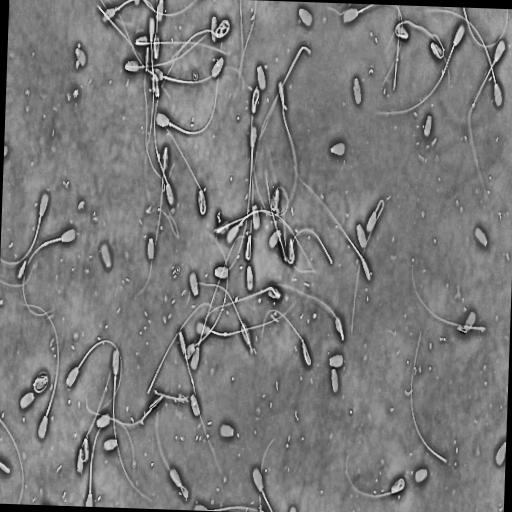coiled-tail: (79, 343, 119, 461), (170, 19, 229, 61), (345, 455, 404, 497), (270, 183, 289, 217), (251, 89, 259, 150), (271, 187, 288, 215), (33, 378, 46, 392), (253, 91, 258, 108), (81, 438, 85, 458)
distal-droplet: (177, 325, 214, 456), (194, 302, 296, 337), (42, 241, 47, 246), (191, 377, 194, 385), (223, 331, 227, 336)
folded-tail: (159, 114, 206, 214), (186, 282, 252, 351), (351, 200, 383, 332), (270, 283, 343, 340), (140, 147, 166, 293), (468, 60, 495, 190), (156, 390, 188, 498), (202, 286, 280, 329), (394, 20, 449, 79), (126, 32, 208, 68), (262, 309, 310, 364), (136, 41, 226, 54), (245, 166, 253, 260), (200, 191, 204, 211)
loose-head: (98, 241, 114, 272), (473, 224, 489, 249), (297, 6, 314, 29), (462, 308, 477, 333), (18, 390, 35, 411), (210, 54, 224, 79), (188, 269, 200, 298), (355, 221, 367, 250), (352, 73, 362, 107), (421, 112, 433, 139), (412, 466, 428, 486), (256, 63, 267, 92), (268, 228, 282, 250), (329, 140, 346, 158), (95, 411, 111, 429), (189, 392, 200, 418), (74, 45, 87, 67), (145, 234, 155, 262), (213, 263, 229, 280), (101, 437, 118, 453), (219, 422, 235, 439), (327, 352, 344, 368), (251, 201, 260, 230), (245, 264, 254, 292), (330, 368, 339, 394), (17, 259, 26, 279)
loose-tail: (247, 41, 313, 165), (146, 298, 216, 397), (410, 254, 487, 332), (409, 328, 449, 466), (289, 225, 334, 276), (0, 415, 25, 503), (462, 7, 509, 49), (391, 5, 401, 95)
normal: (292, 164, 373, 284), (189, 232, 256, 372), (380, 20, 467, 114), (425, 8, 503, 108), (181, 227, 229, 363), (111, 347, 152, 504), (154, 43, 221, 135), (132, 142, 170, 302), (468, 38, 506, 193), (156, 107, 207, 216), (78, 338, 121, 465), (183, 280, 255, 354), (264, 282, 345, 344), (350, 197, 385, 334), (22, 228, 76, 315), (24, 304, 58, 439), (65, 339, 122, 414), (154, 385, 190, 502), (122, 28, 211, 74), (200, 282, 282, 329), (393, 18, 450, 84), (0, 193, 48, 264), (343, 450, 405, 502), (168, 17, 231, 64), (260, 309, 311, 366), (383, 18, 445, 61), (101, 0, 159, 42), (277, 79, 298, 194), (133, 33, 228, 56), (144, 17, 155, 168), (244, 160, 254, 262), (250, 87, 260, 163), (32, 373, 48, 393)
proximal-droplet: (38, 215, 41, 223)
